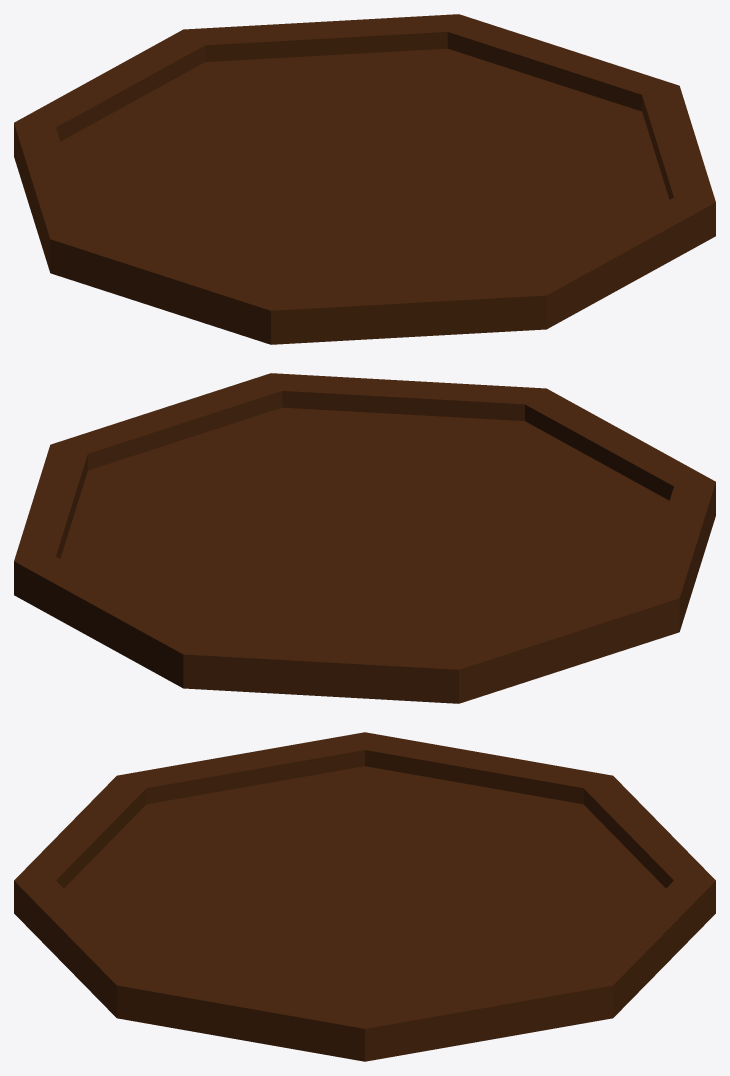
Rendered from Daiza.fbx.
The picture shows the model from 3 angles, top to bottom: view 1: azimuth 30°, elevation 25°; view 2: azimuth 150°, elevation 25°; view 3: azimuth 270°, elevation 25°; orthographic projection. The views are drawn at different scales.
Parts seen in each view (by area): view 1: 円柱; view 2: 円柱; view 3: 円柱.
Part boxes in pixels (left/top/right/bottom): 円柱: left=14, top=14, right=715, bottom=344; 円柱: left=14, top=373, right=715, bottom=703; 円柱: left=14, top=732, right=715, bottom=1061.
Bounding box in the file's own units: 136 × 7.03 × 136.
